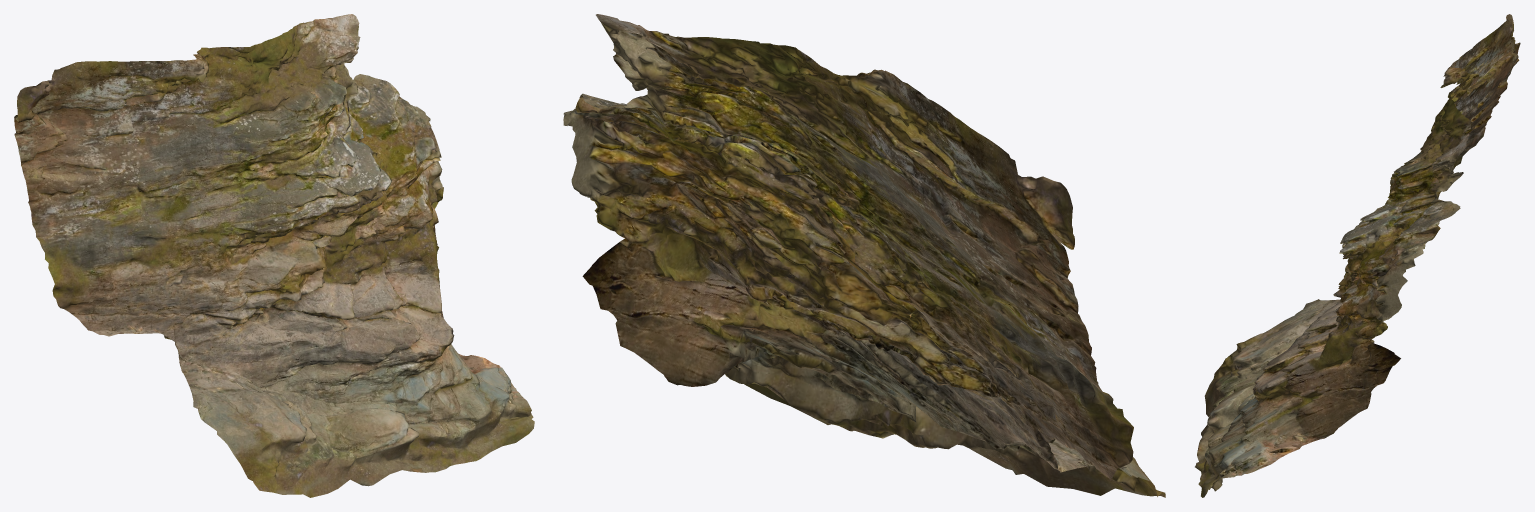
File: rock_face_02.glb
3 renders of one model, left to right at view 1: azimuth 30°, elevation 25°; view 2: azimuth 150°, elevation 25°; view 3: azimuth 270°, elevation 25°, orthographic. The views are drawn at different scales.
Visible parts, largest first — view 1: rock_face_02_mesh; view 2: rock_face_02_mesh; view 3: rock_face_02_mesh.
Boxes of the visible parts, box(x1,y1,x2,y2) form: rock_face_02_mesh: box(14, 14, 534, 497); rock_face_02_mesh: box(563, 14, 1165, 497); rock_face_02_mesh: box(1195, 14, 1520, 497).
Size of the model in its own units: 2.71 by 2.47 by 2.13.
1 material, 1 textured.
